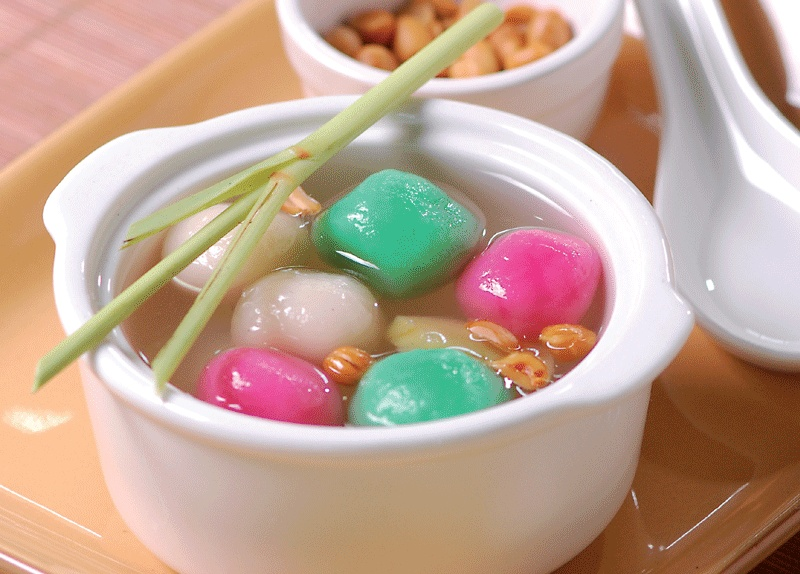ronde: (109, 136, 621, 422)
